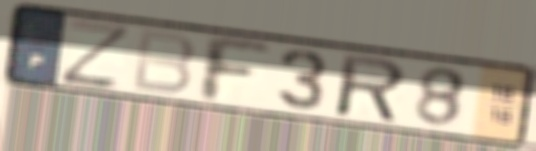3: (272, 48, 333, 112)
8: (411, 65, 470, 129)
B: (128, 27, 198, 97)
F: (200, 32, 275, 106)
R: (335, 51, 409, 126)
Z: (56, 16, 135, 92)
